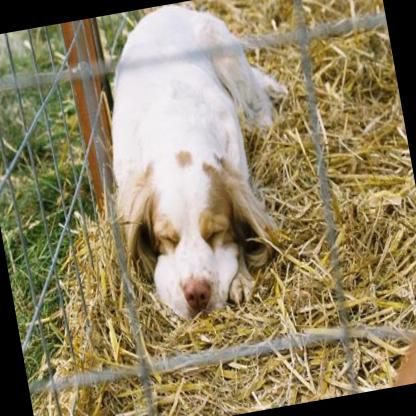clumber: (77, 0, 321, 333)
